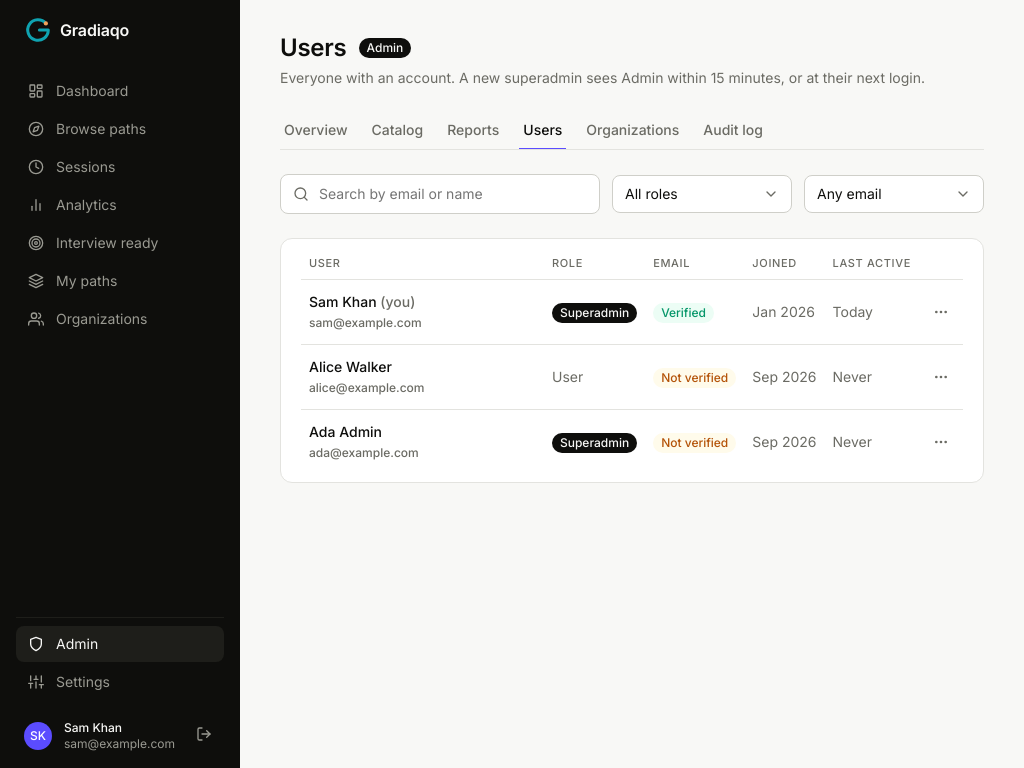
Test: UsersPage › waits while removing, and can be cancelled
Click the button named "More for alice@example.com" at {"x": 941, "y": 377}, box top-left (927, 363), bottom-right (955, 391)
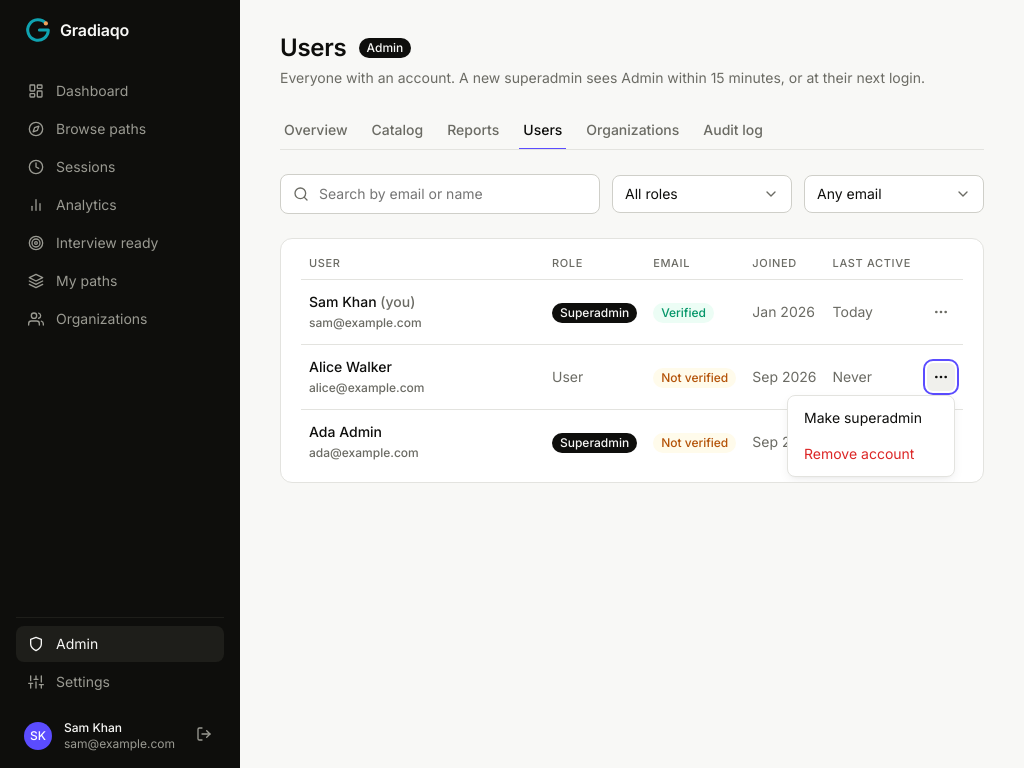
Click the button "Remove account" at {"x": 871, "y": 454}, box top-left (792, 436), bottom-right (950, 472)
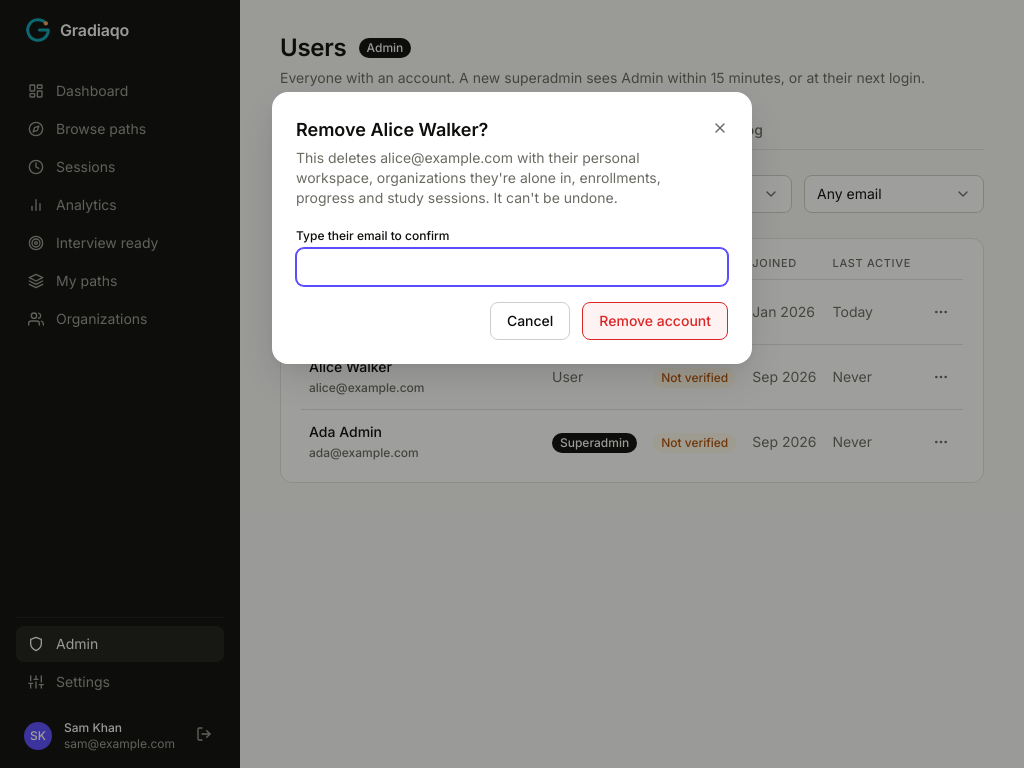
Click the button "Cancel" at {"x": 530, "y": 321}, box top-left (490, 302), bottom-right (570, 340)
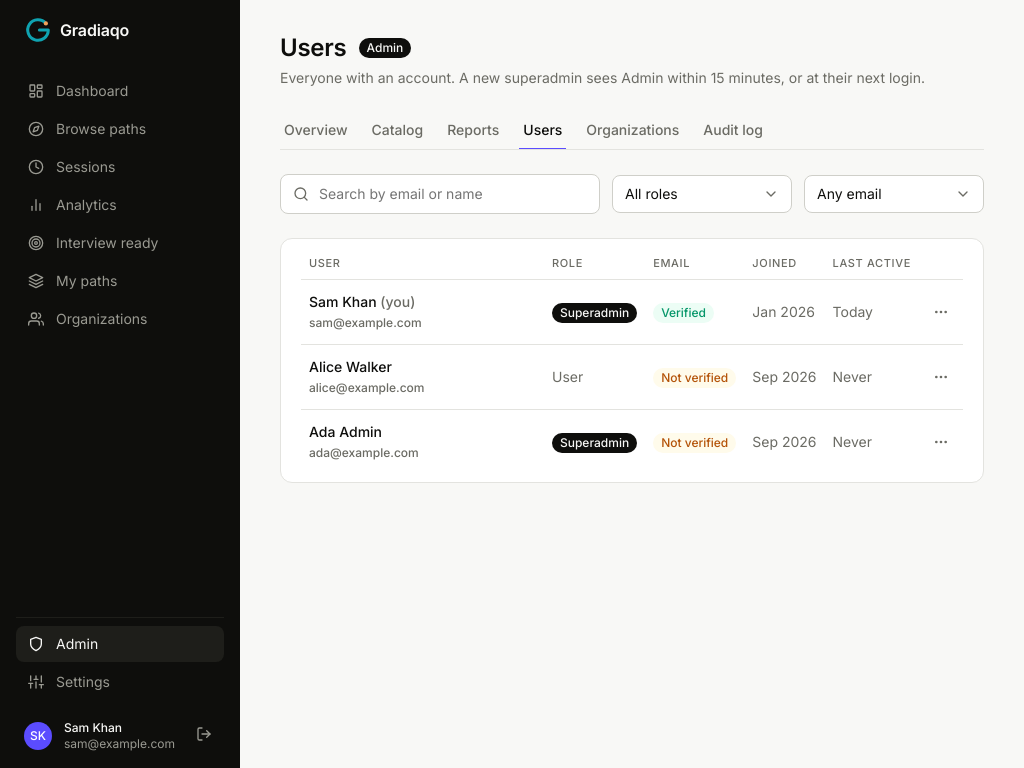
Check: the dialog is gone
Click the button named "More for alice@example.com" at {"x": 941, "y": 377}, box top-left (927, 363), bottom-right (955, 391)
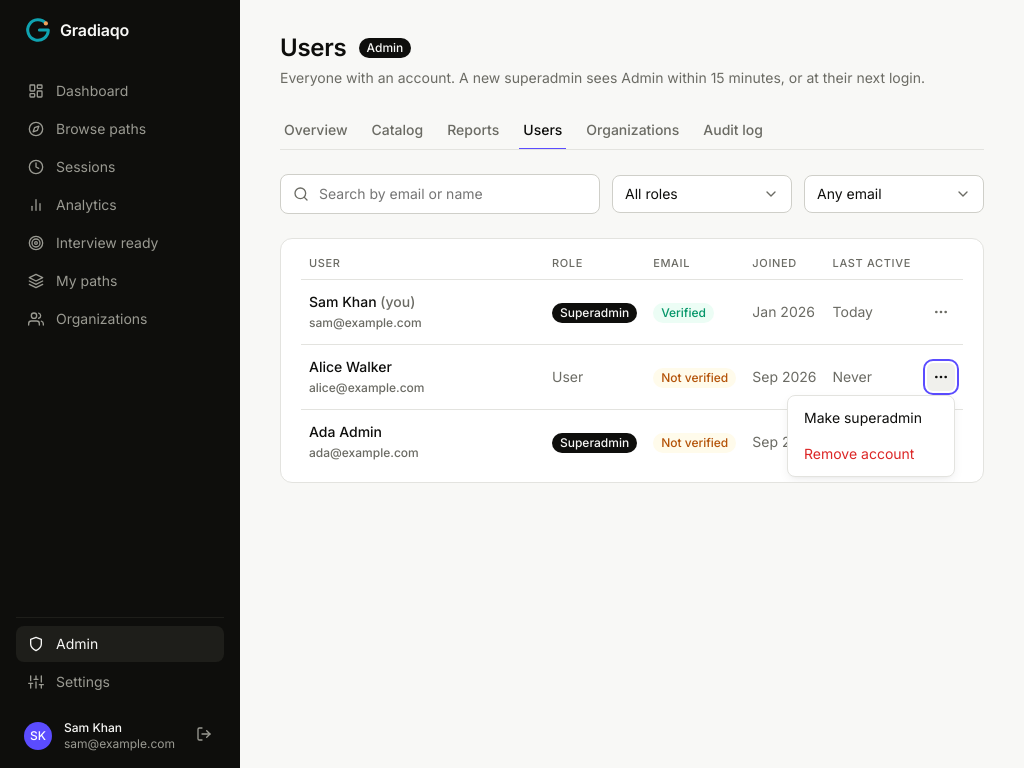
Click the button "Remove account" at {"x": 871, "y": 454}, box top-left (792, 436), bottom-right (950, 472)
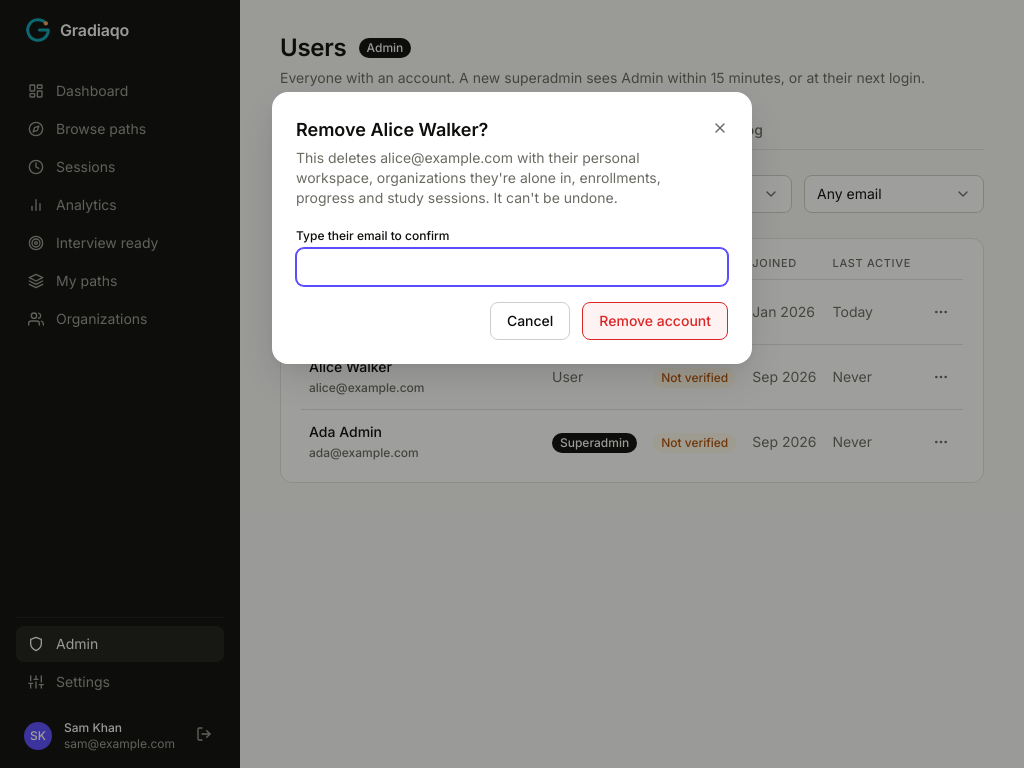
Type "alice@example.com" into the field labelled "Type their email to confirm" at {"x": 512, "y": 267}, box top-left (296, 248), bottom-right (728, 286)
Click the button "Remove account" at {"x": 655, "y": 321}, box top-left (582, 302), bottom-right (728, 340)
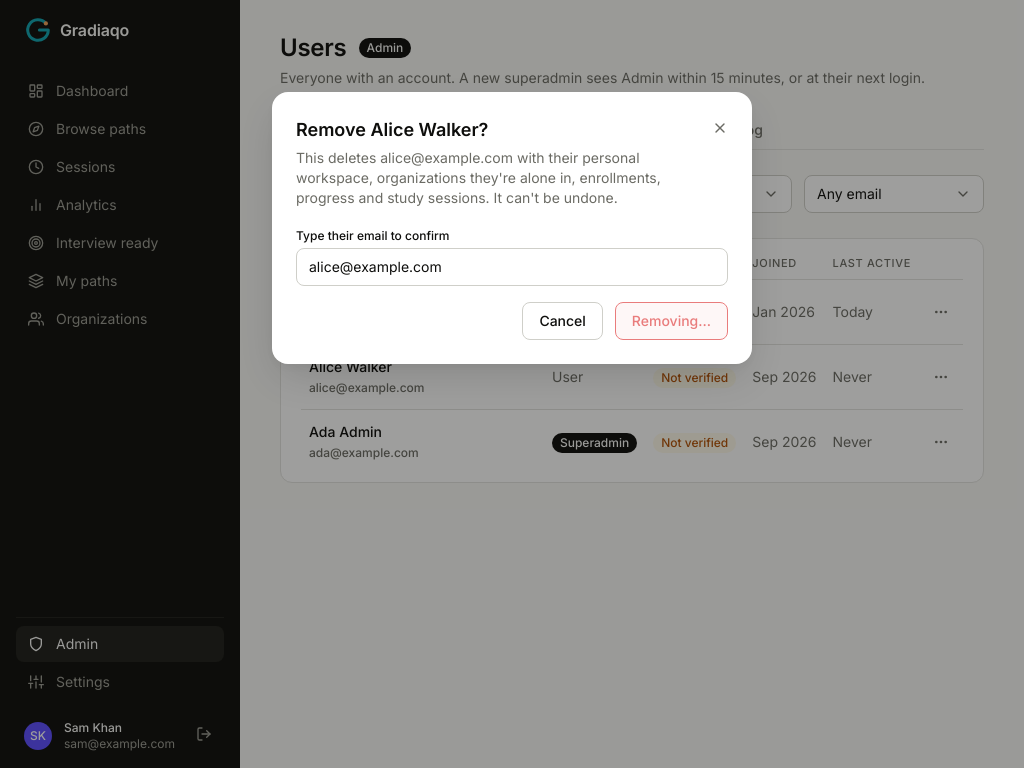
Check: the button "Removing…" is disabled, box top-left (615, 302), bottom-right (728, 340)
